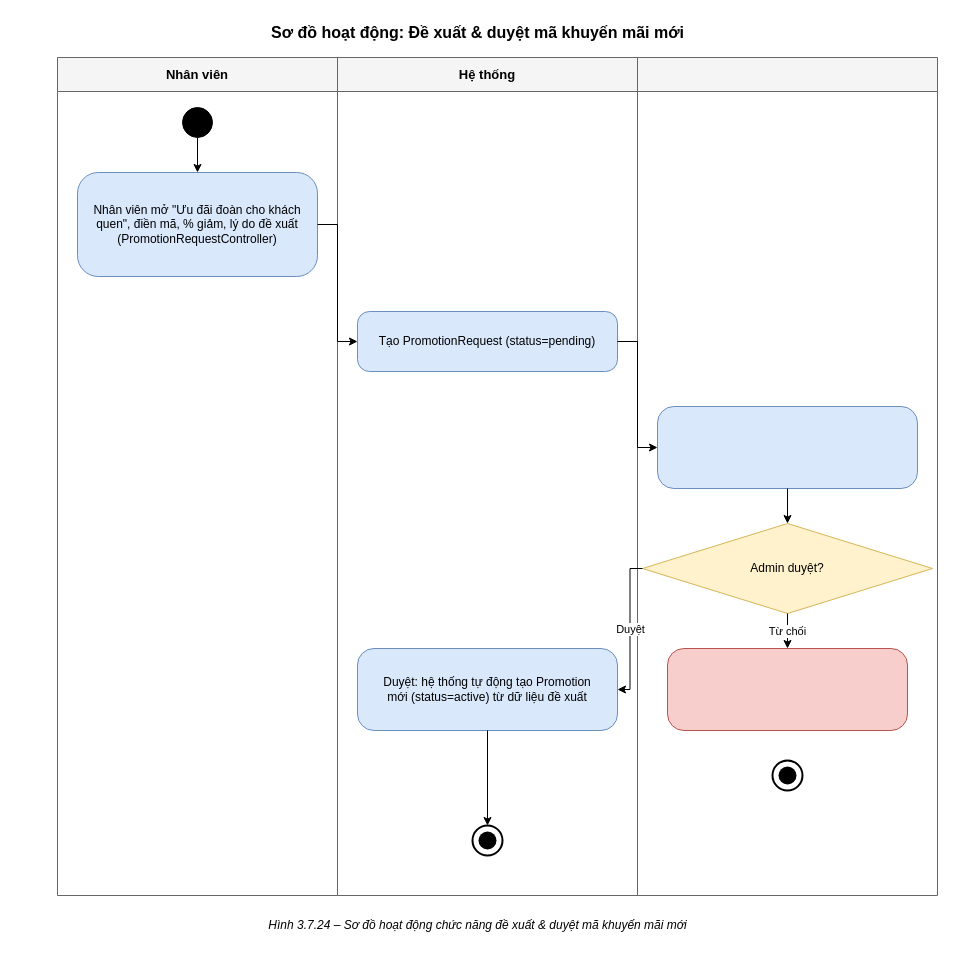
The diagram is 955 pixels wide and 957 high, and some of its shapes have lost their labels. The shapes that lost their labels are listed below. From the top down, each one's box as (x1, y1, x2, y2) in pixels, then its label:
(656, 406, 918, 488): Admin xem danh sách đề xuất tại /admin/promotions
(636, 56, 938, 896): Quản trị viên
(666, 648, 908, 730): Từ chối: status=rejected, ghi lý do
